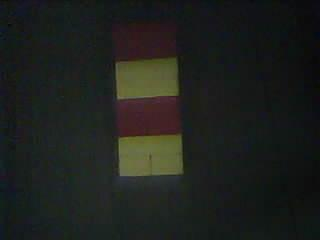lego: (111, 20, 183, 178)
